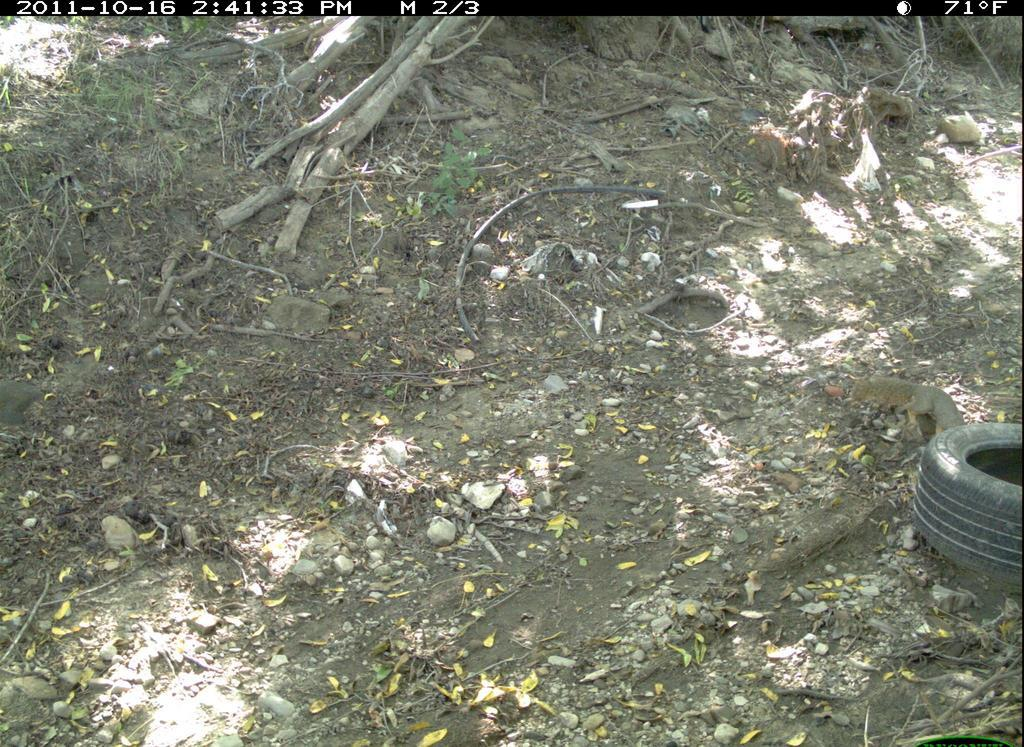squirrel: (856, 374, 968, 438)
